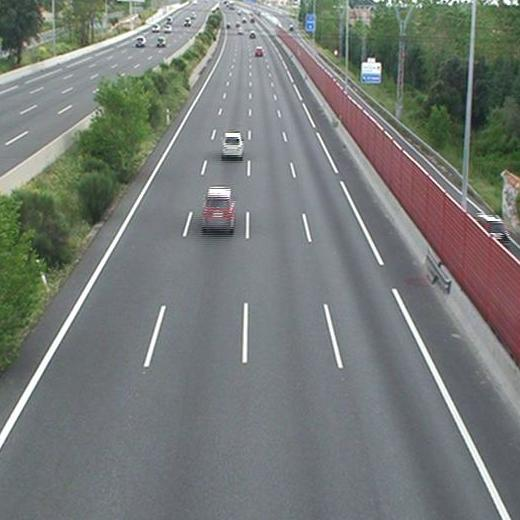car: (203, 188, 234, 227), (221, 132, 244, 157), (255, 47, 263, 56)
